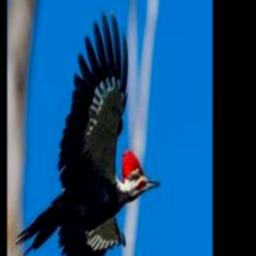Woodpecker: (15, 9, 160, 256)
